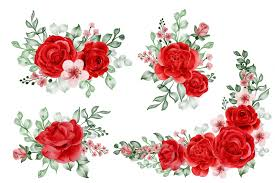lale: (32, 116, 92, 167), (155, 36, 199, 89), (31, 32, 75, 79), (213, 122, 257, 168), (183, 127, 224, 174), (145, 135, 186, 173), (80, 39, 115, 82), (226, 101, 262, 129), (184, 70, 210, 99)
